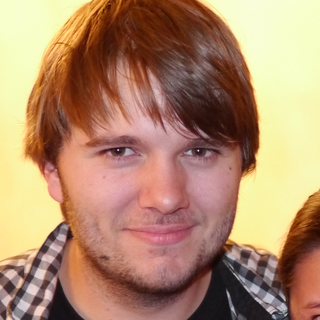eye: (95, 140, 145, 164), (177, 140, 223, 165)
